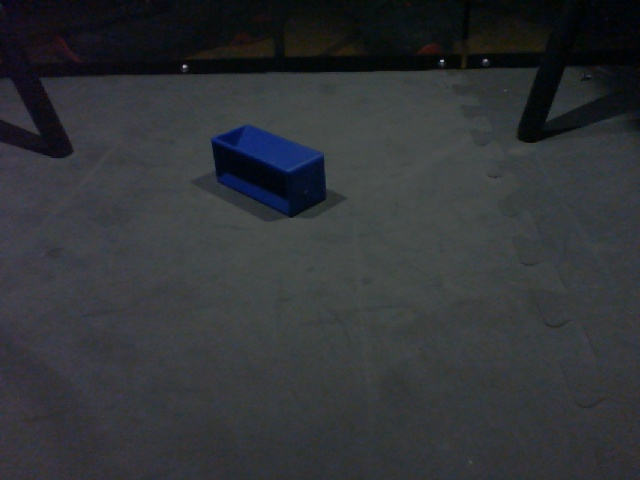BlueSample: (209, 120, 331, 219)
